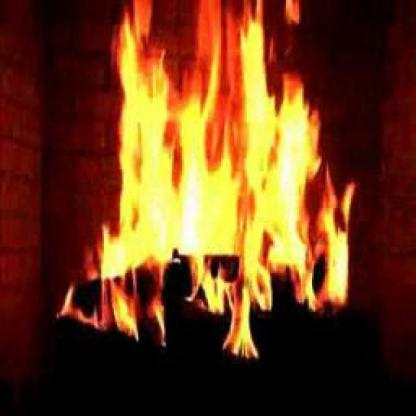fire: (55, 0, 360, 370)
